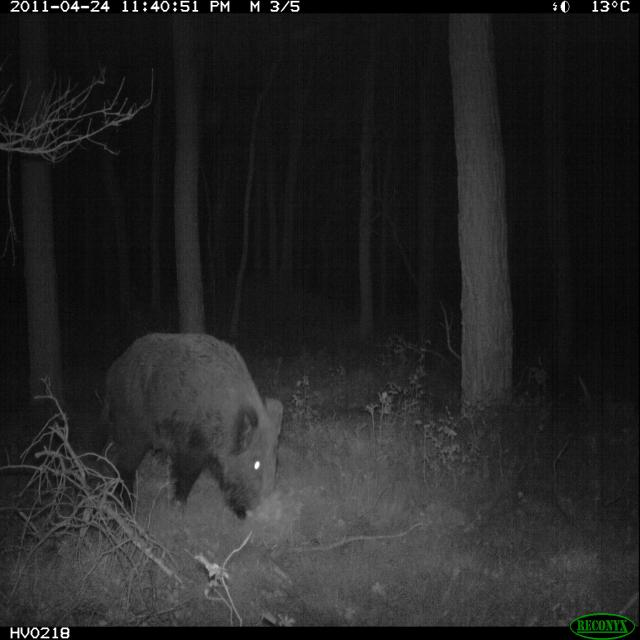boar: (64, 311, 291, 554)
